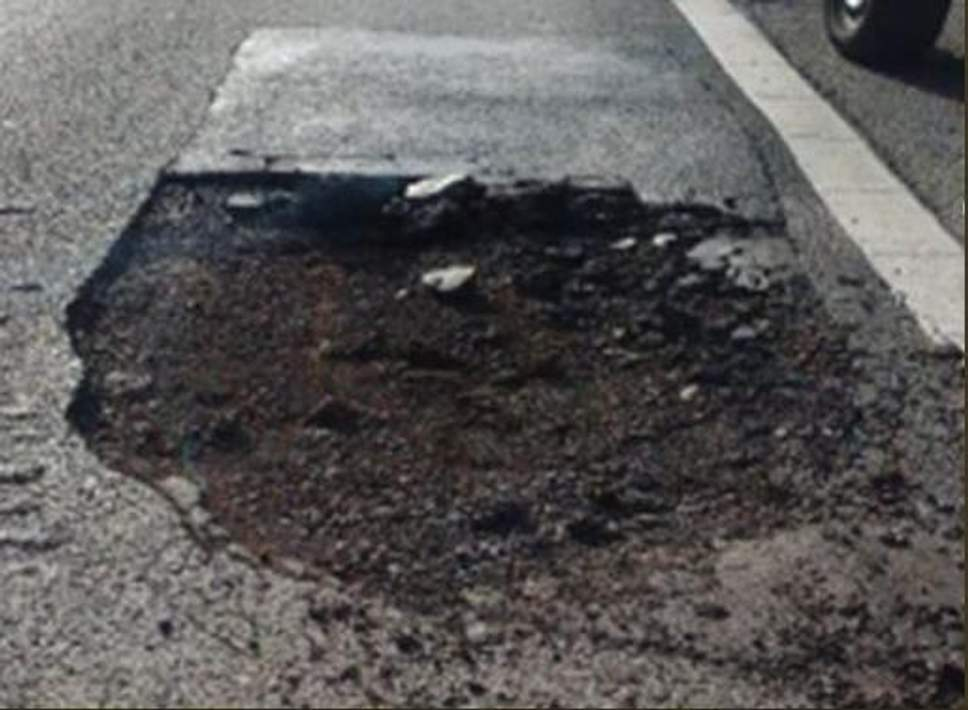pothole: (67, 144, 907, 613)
